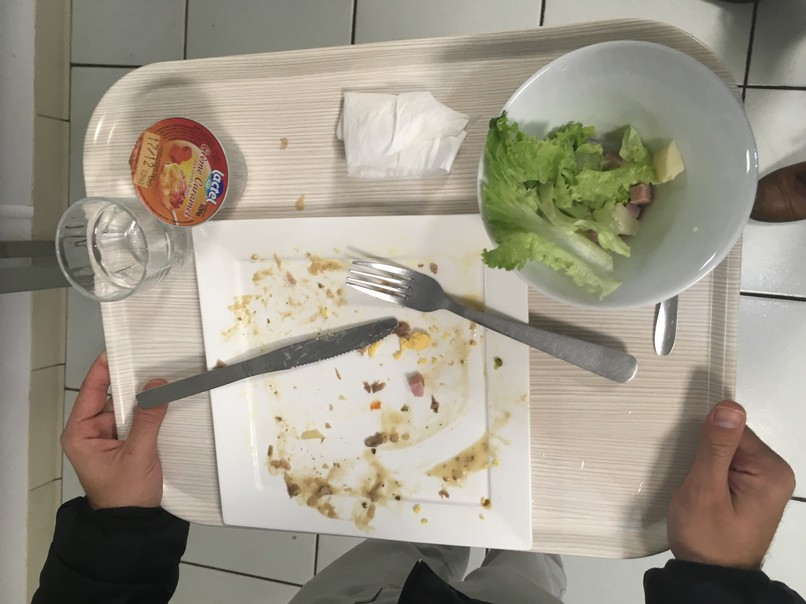cup: (38, 187, 194, 310)
cutlery: (346, 253, 647, 385), (138, 315, 402, 407), (651, 289, 687, 352)
orga: (487, 119, 684, 289)
trash: (319, 79, 473, 185), (120, 121, 245, 229)
